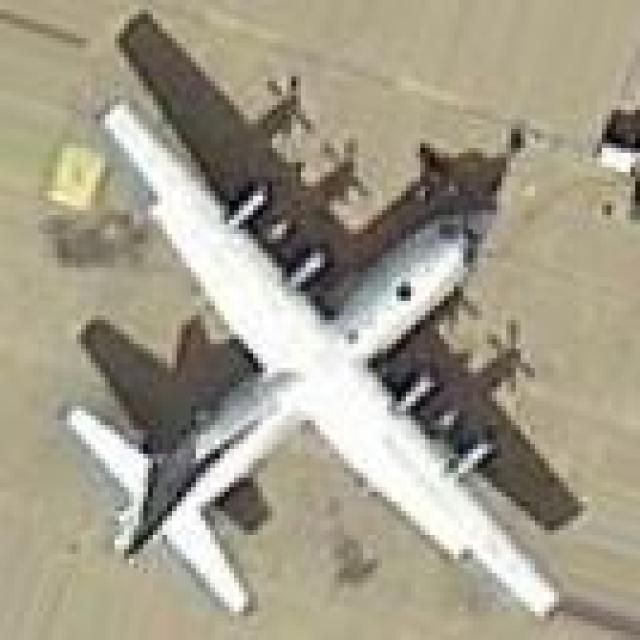C-130_TopDown: (58, 8, 584, 629)
